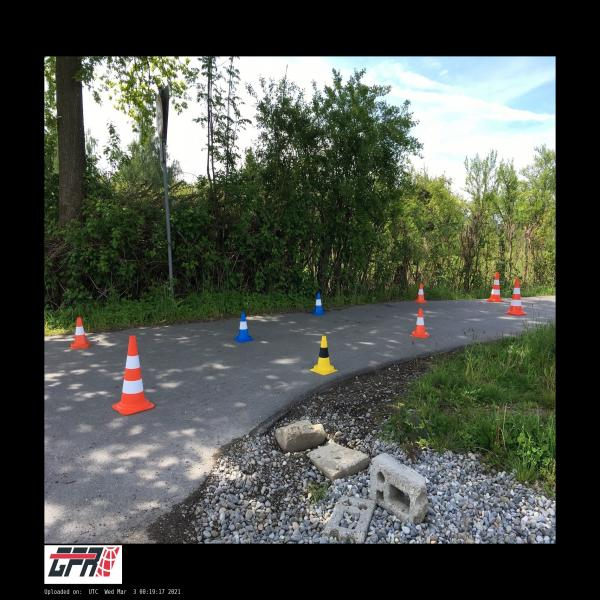blue_cone: (233, 312, 254, 343), (312, 293, 326, 315)
large_orange_cone: (112, 335, 154, 415), (504, 278, 526, 316), (487, 272, 503, 302)
orange_cone: (69, 317, 91, 349), (410, 308, 430, 338), (414, 283, 427, 303)
yellow_cone: (310, 336, 338, 375)
